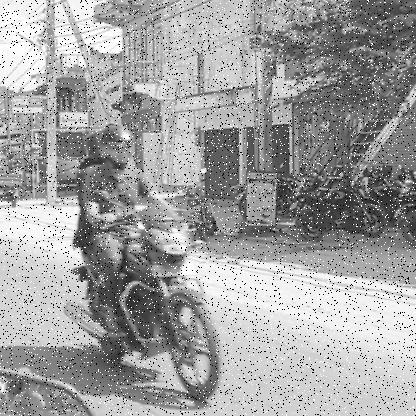motorcycle: (62, 200, 226, 406)
